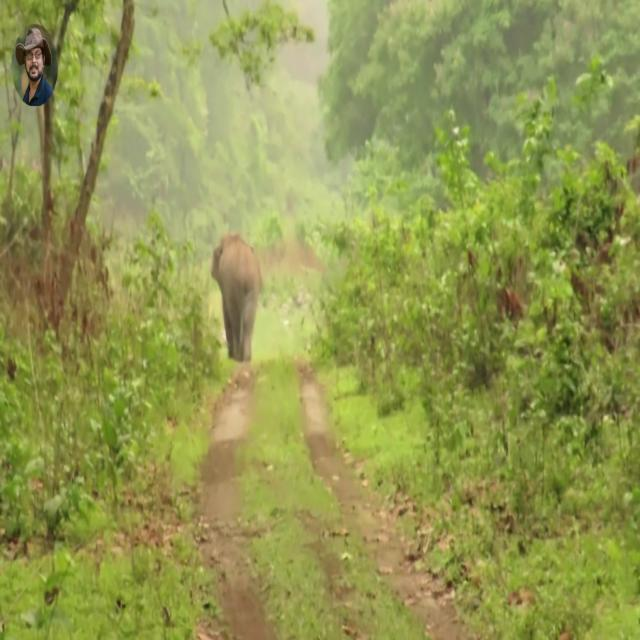Elephant: (210, 232, 262, 362)
